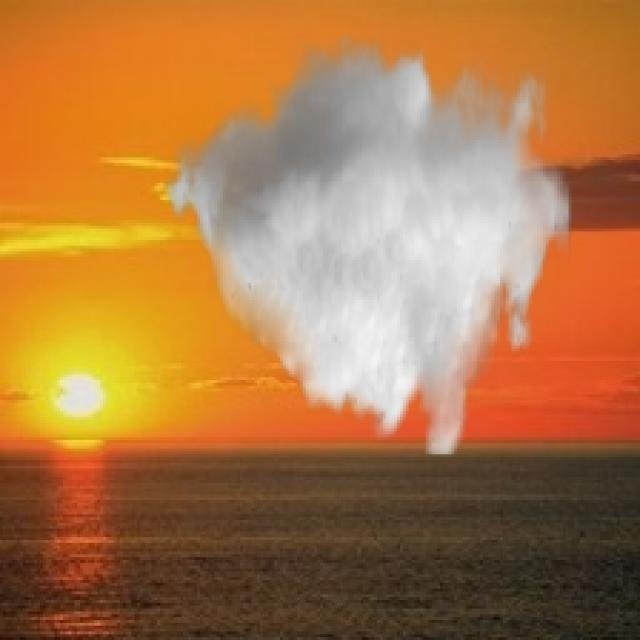Smoke: (157, 34, 572, 457)
